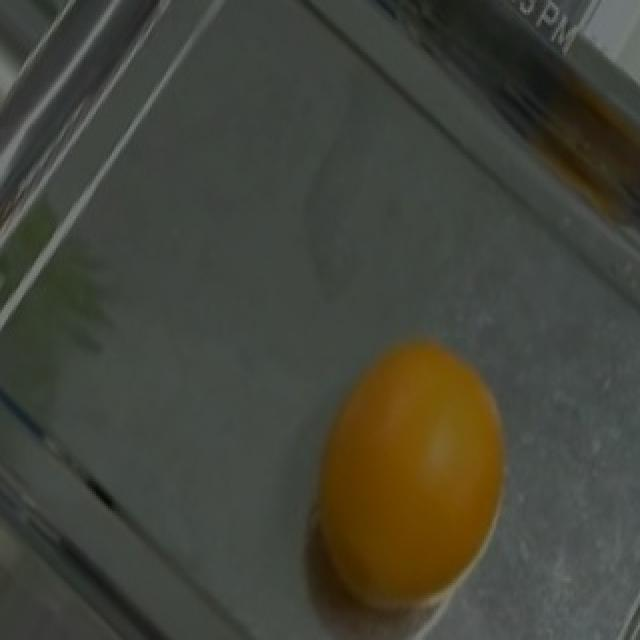Fruit: (282, 310, 534, 640)
